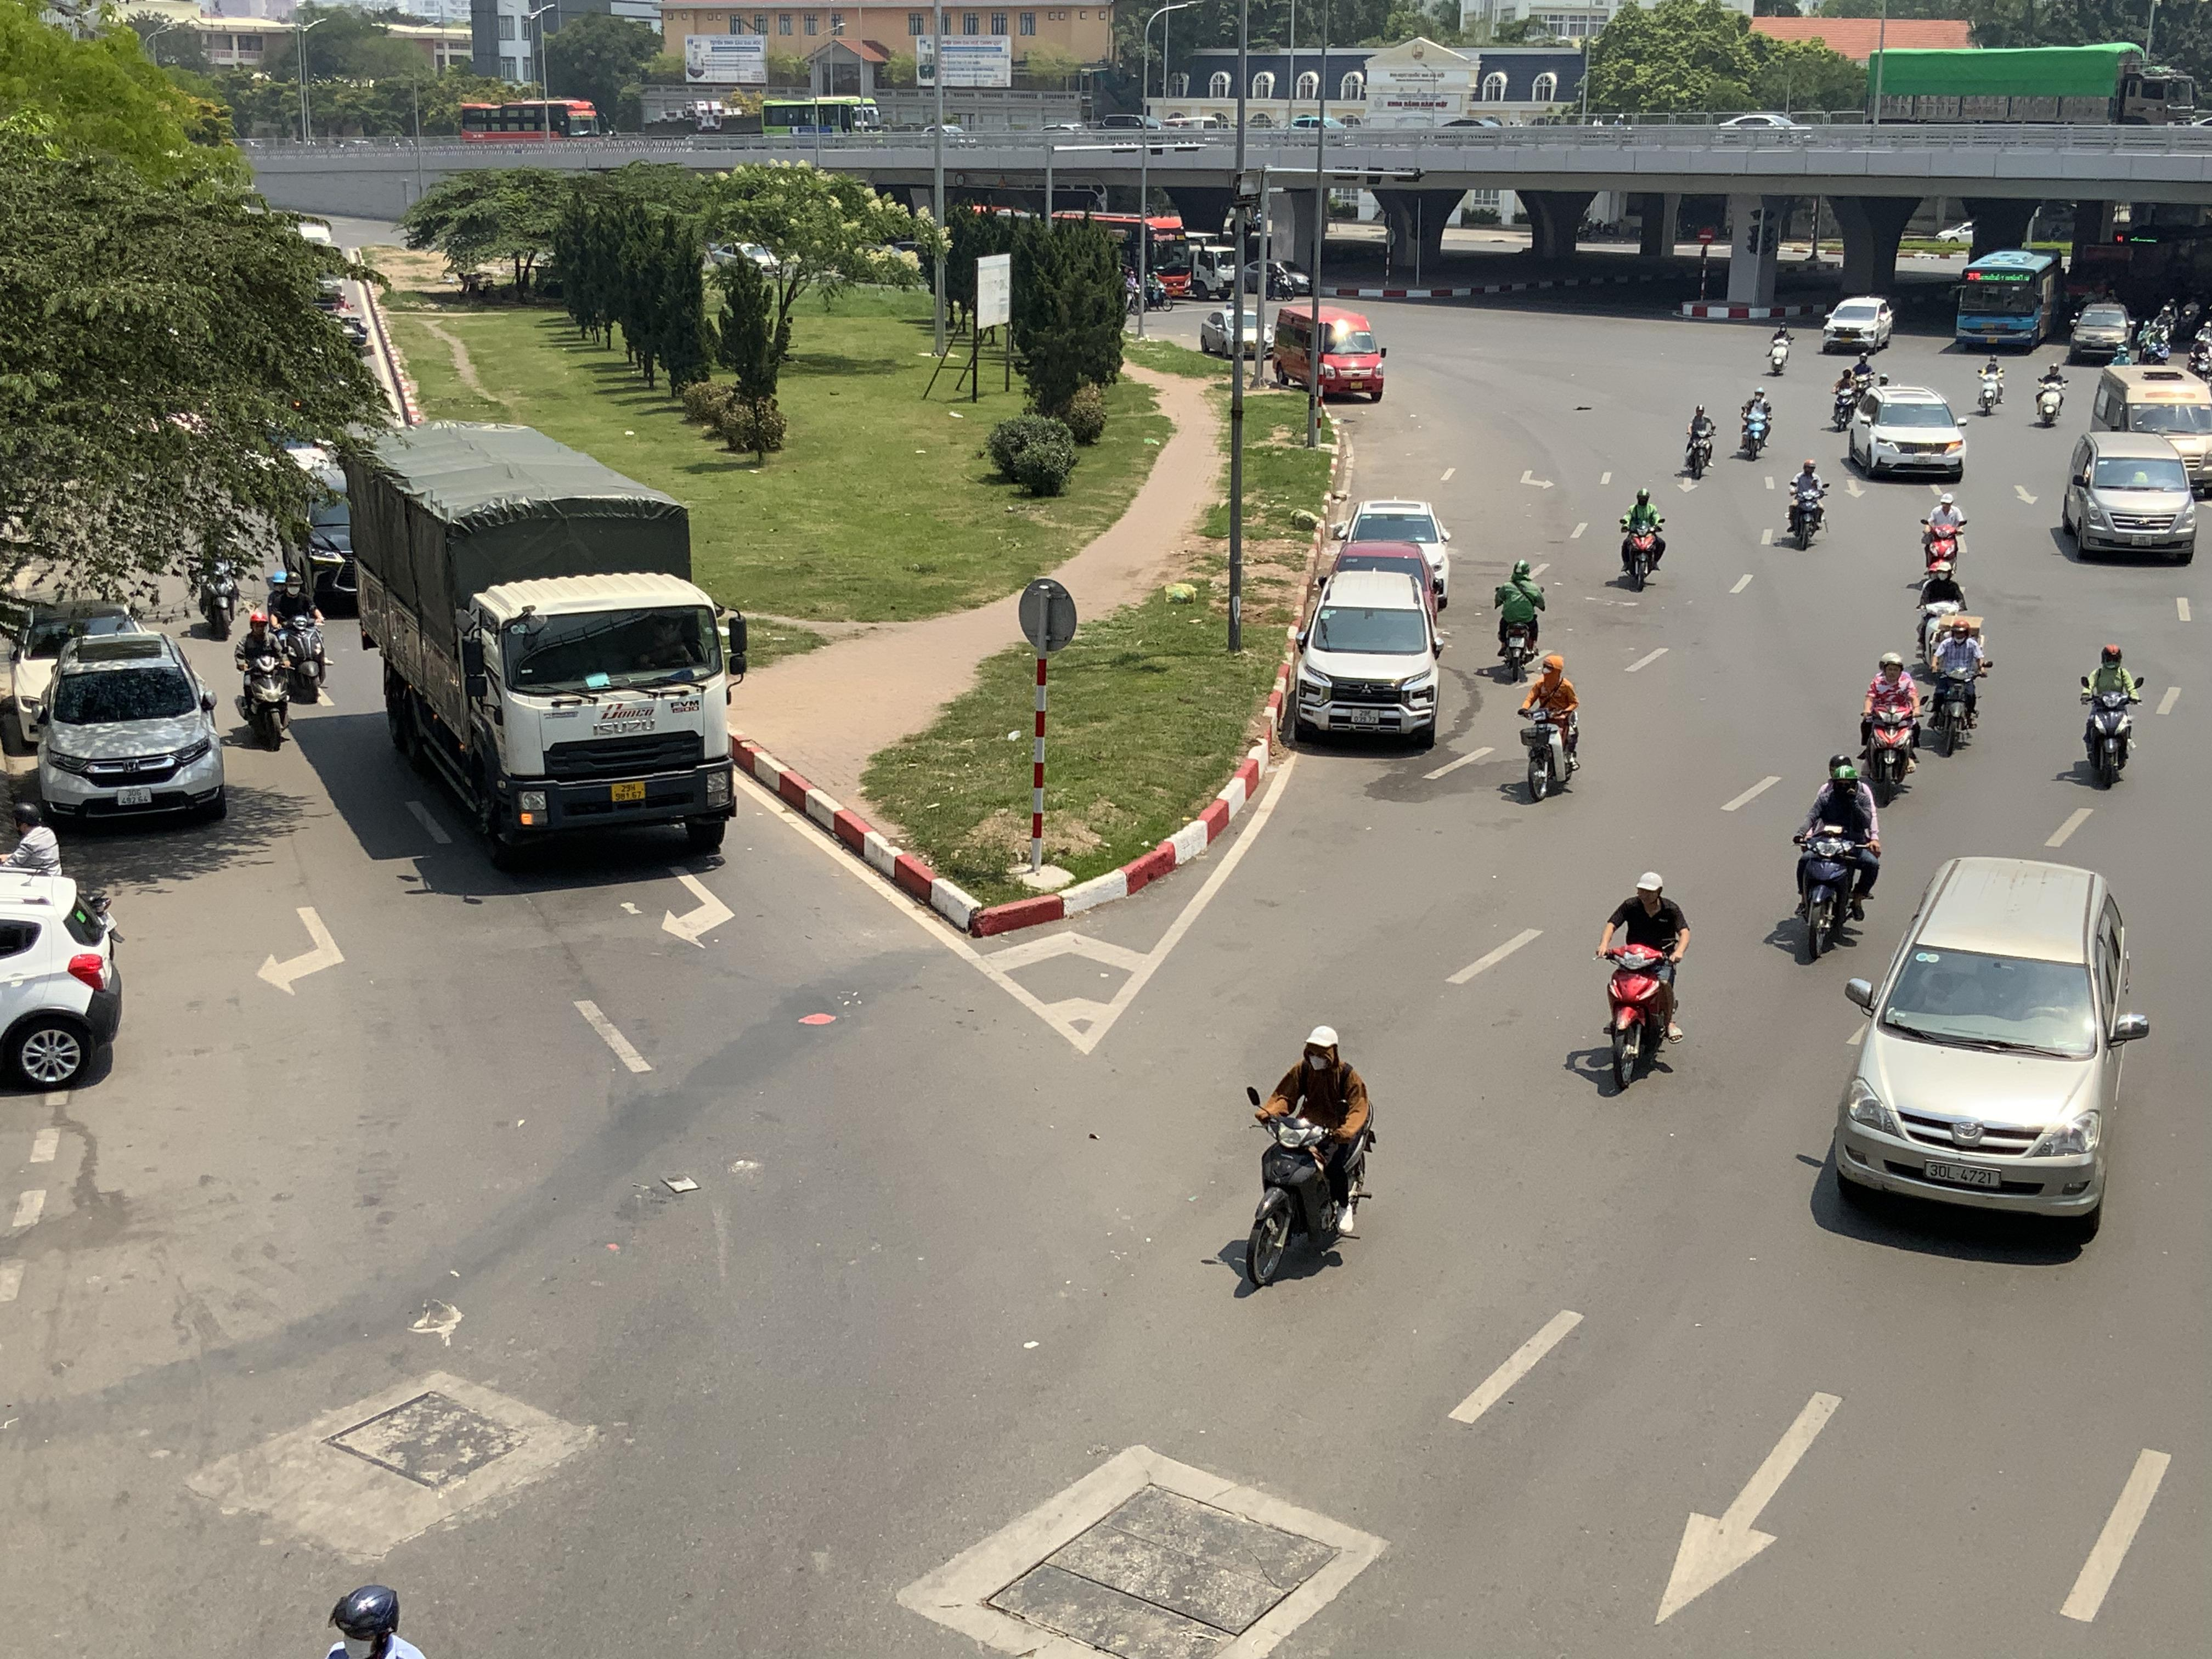BSD: (1925, 1161, 2001, 1188)
BSV: (610, 781, 646, 803), (117, 786, 153, 807), (1352, 709, 1379, 725)
bus: (2087, 364, 2212, 491), (1952, 244, 2071, 352), (458, 96, 603, 138), (759, 94, 881, 136)
car: (1827, 854, 2149, 1244), (24, 629, 226, 826), (0, 859, 125, 1129), (1289, 565, 1446, 748), (2057, 430, 2200, 565), (1332, 498, 1454, 610), (1844, 387, 1968, 481), (1268, 305, 1386, 403), (2067, 301, 2135, 364), (1822, 296, 1893, 356), (1200, 307, 1273, 362)
motorbike: (1230, 1023, 1374, 1293), (1594, 870, 1688, 1096), (1789, 755, 1881, 964), (261, 1584, 470, 1659), (1857, 652, 1921, 803), (1515, 652, 1580, 803), (1923, 612, 1989, 756), (2078, 641, 2141, 789), (233, 610, 294, 749), (275, 580, 331, 704), (1493, 558, 1547, 681), (1912, 561, 1970, 660), (1616, 486, 1667, 591), (1918, 491, 1968, 584), (1784, 458, 1829, 549), (202, 547, 240, 640), (1677, 399, 1716, 481), (1735, 385, 1773, 462), (1829, 359, 1865, 430), (2033, 359, 2067, 427), (1973, 352, 2006, 416), (1764, 312, 1792, 378)
truck: (350, 418, 744, 870), (1862, 44, 2196, 129)
